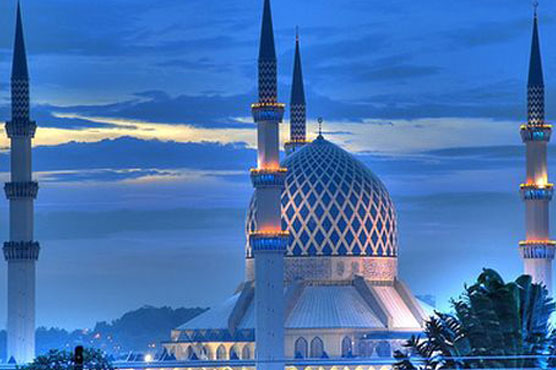Mosque: (1, 1, 542, 359)
